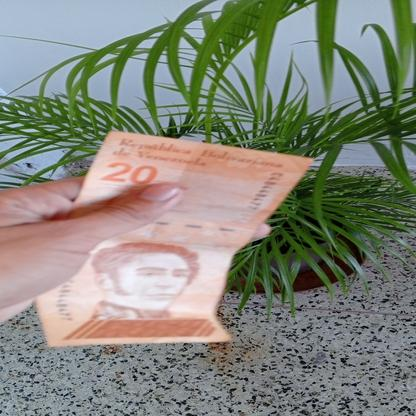twenty-front-vef: (35, 130, 314, 348)
